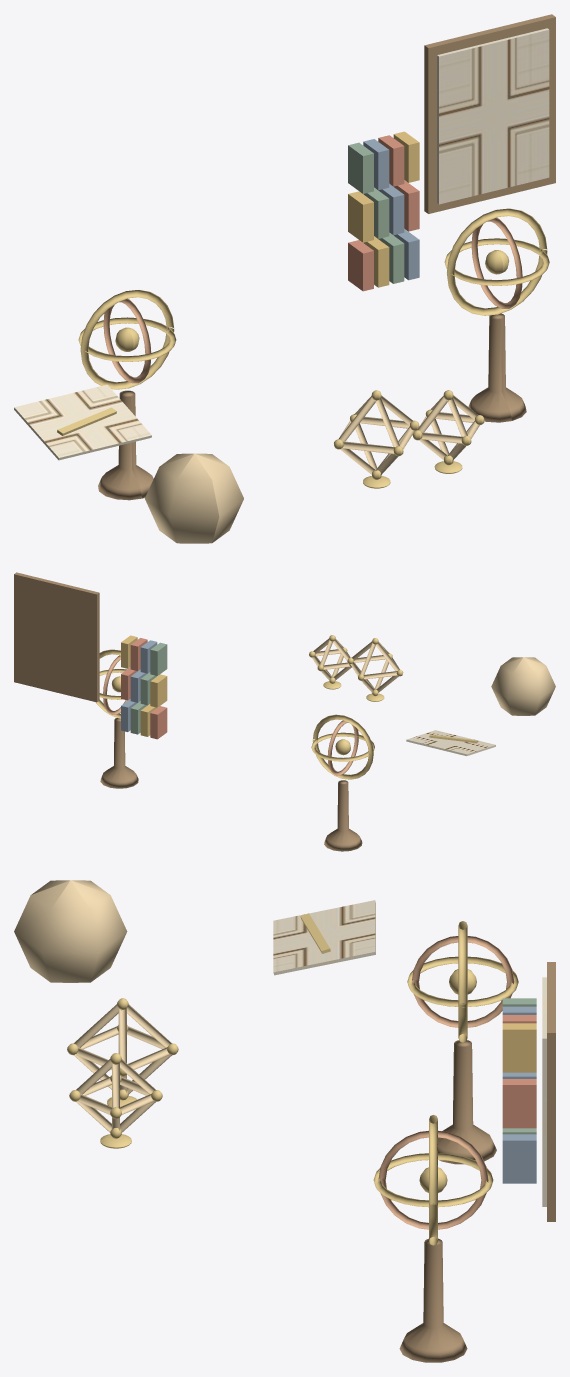
Rendered from spatial_instruments.glb.
3 views of the same model, one above another, from view 1: azimuth 30°, elevation 25°; view 2: azimuth 150°, elevation 25°; view 3: azimuth 270°, elevation 25° (orthographic). The views are drawn at different scales.
Parts seen in each view (by area): view 1: Spatial_Static_Instruments, Poly_3, Poly_1, Poly_2; view 2: Spatial_Static_Instruments, Poly_3, Poly_1, Poly_2; view 3: Spatial_Static_Instruments, Poly_3, Poly_1, Poly_2.
Boxes of the visible parts, bbox=[...] form: Spatial_Static_Instruments: bbox=[14, 14, 555, 500]; Poly_3: bbox=[144, 453, 243, 543]; Poly_1: bbox=[334, 390, 419, 479]; Poly_2: bbox=[412, 390, 484, 465]; Spatial_Static_Instruments: bbox=[14, 572, 495, 851]; Poly_3: bbox=[491, 657, 555, 715]; Poly_1: bbox=[347, 638, 403, 696]; Poly_2: bbox=[309, 635, 355, 683]; Spatial_Static_Instruments: bbox=[273, 900, 555, 1362]; Poly_3: bbox=[14, 880, 127, 982]; Poly_1: bbox=[67, 998, 178, 1100]; Poly_2: bbox=[69, 1053, 162, 1138].
Size of the model in its own units: 3.58 by 1.83 by 2.39.
9 materials, 1 textured.
